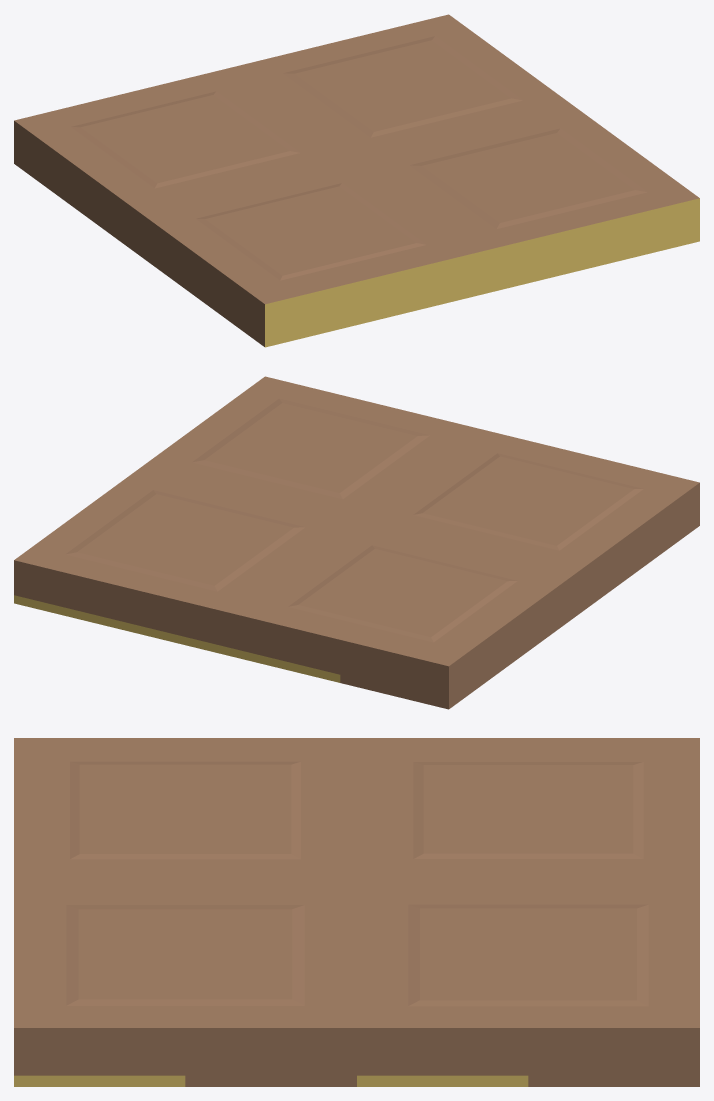
Rendered from roofDetail_Textured.fbx.
3 views of the same model, one above another, from view 1: azimuth 30°, elevation 25°; view 2: azimuth 150°, elevation 25°; view 3: azimuth 270°, elevation 25° (orthographic). The views are drawn at different scales.
Parts seen in each view (by area): view 1: Roof_2; view 2: Roof_2; view 3: Roof_2.
Part boxes in pixels (x1,y1,x2,y2): Roof_2: (14,14,699,347); Roof_2: (14,376,699,709); Roof_2: (14,738,699,1086).
Size of the model in its own units: 465 by 45.01 by 465.
